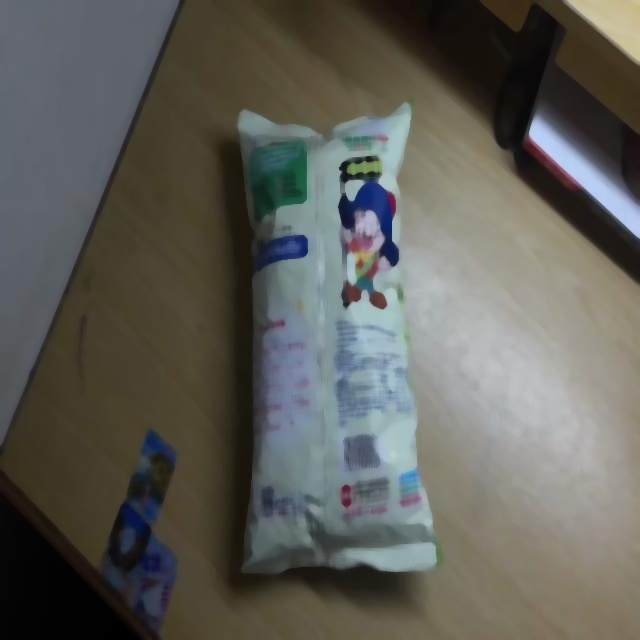Good-Luck: (235, 94, 440, 577)
